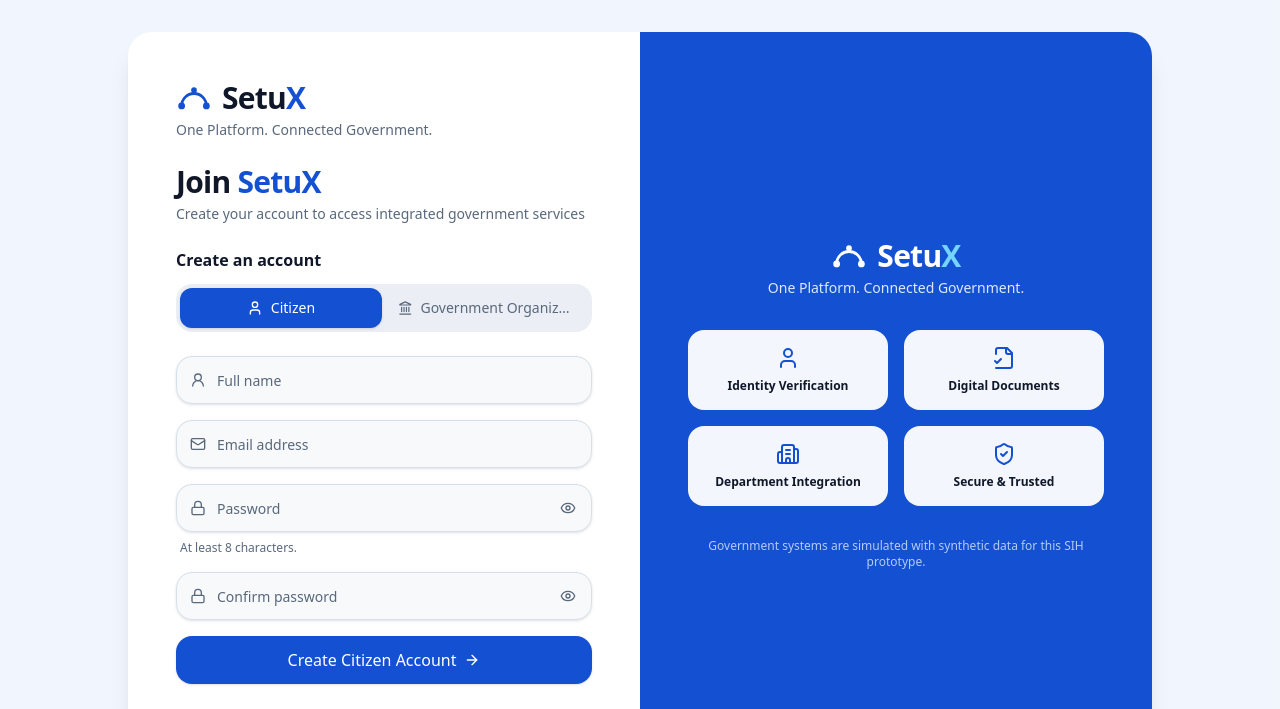
Test: RegisterPage › offers no officer form — those accounts are provisioned, not self-served
Click the tab "Government Organization": point(487, 308) [386,288,588,328]
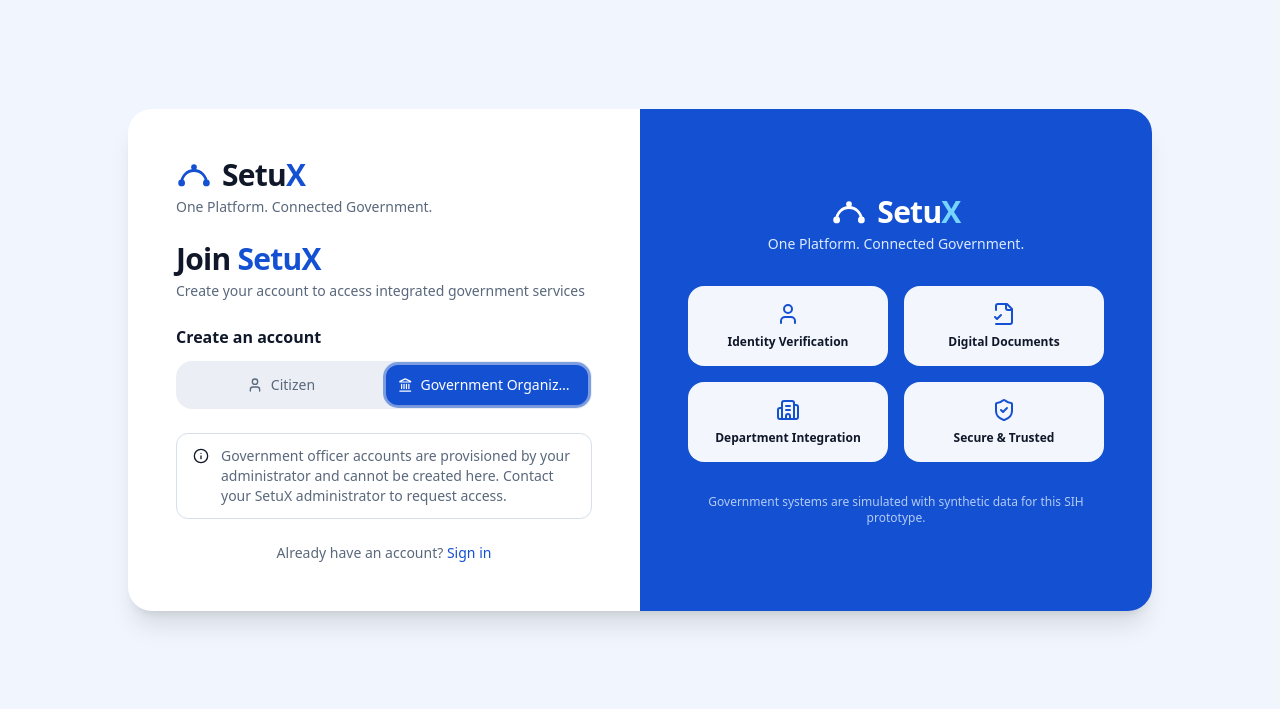
Check: the field with placeholder "full name" is not shown
Check: the button "Create Citizen Account" is gone
Check: the message shows "provisioned by your administrator", box [221,446,570,505]
